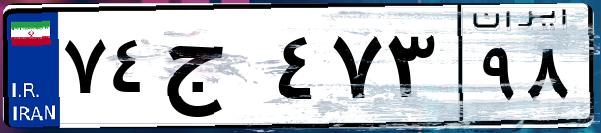3: (385, 28, 445, 110)
4: (270, 28, 330, 110), (110, 28, 158, 98)
7: (330, 28, 385, 110), (57, 26, 110, 100)
8: (525, 38, 570, 115)
9: (475, 38, 525, 113)
ج: (158, 20, 270, 120)
